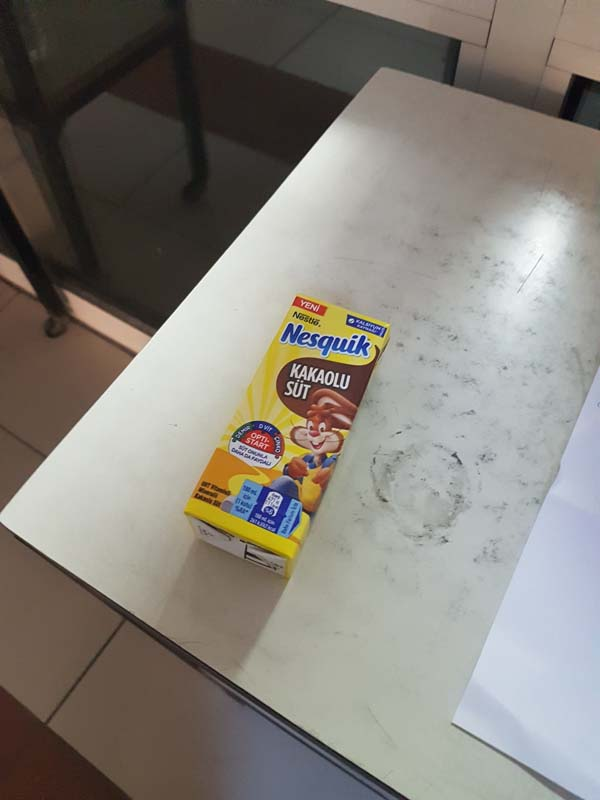nesquick200ml: (185, 283, 397, 604)
